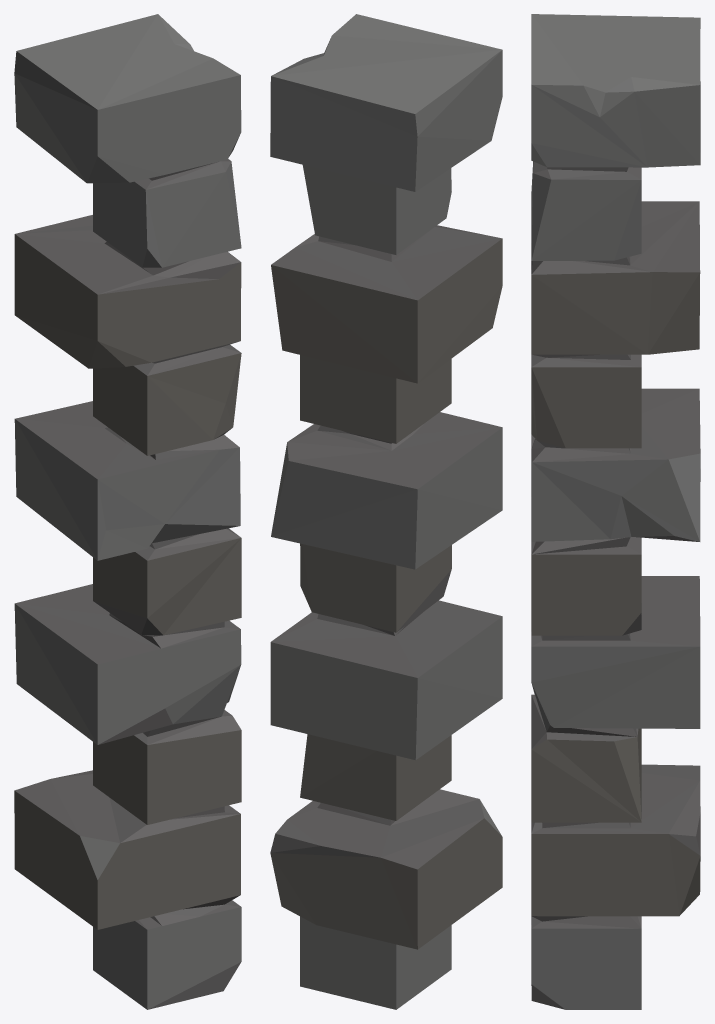
Rendered from SM_Env_Wall_End_Coner_Outer_01.FBX.
3 views of the same model, side by side, from view 1: azimuth 30°, elevation 25°; view 2: azimuth 150°, elevation 25°; view 3: azimuth 270°, elevation 25° (orthographic). The views are drawn at different scales.
Parts seen in each view (by area): view 1: SM_Env_Wall_End_Coner_Outer_01; view 2: SM_Env_Wall_End_Coner_Outer_01; view 3: SM_Env_Wall_End_Coner_Outer_01.
Boxes of the visible parts, box(x1,y1,x2,y2) form: SM_Env_Wall_End_Coner_Outer_01: box(14, 14, 241, 1009); SM_Env_Wall_End_Coner_Outer_01: box(270, 14, 502, 1009); SM_Env_Wall_End_Coner_Outer_01: box(531, 14, 700, 1009).
Size of what is drawn, in the model's own units: 82.99 by 83.3 by 503.
